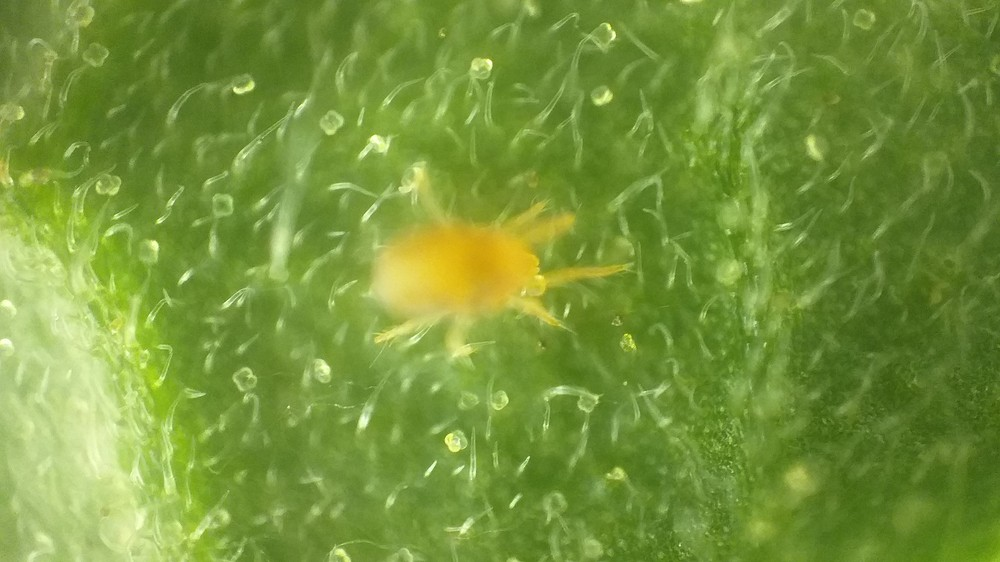Aracnido Rojo: (330, 165, 655, 369)
